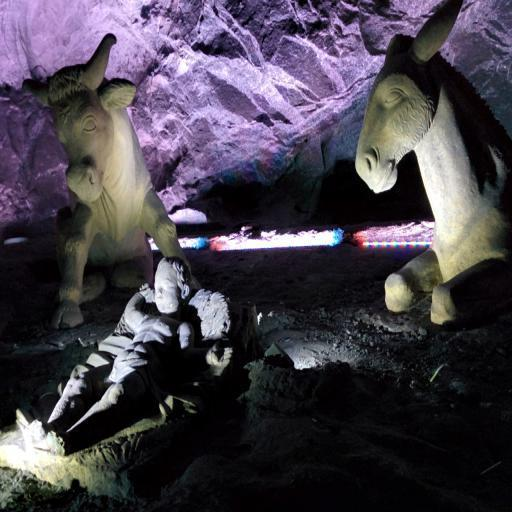horse: (22, 32, 200, 330), (354, 0, 511, 327)
